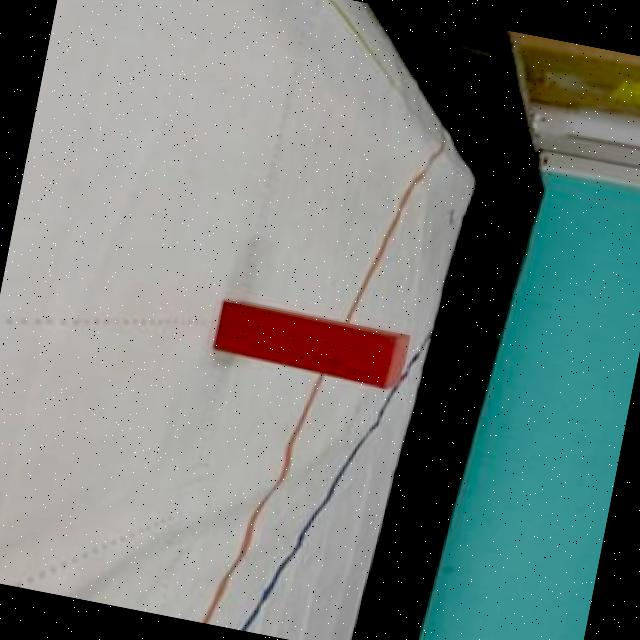redbox: (209, 300, 412, 394)
